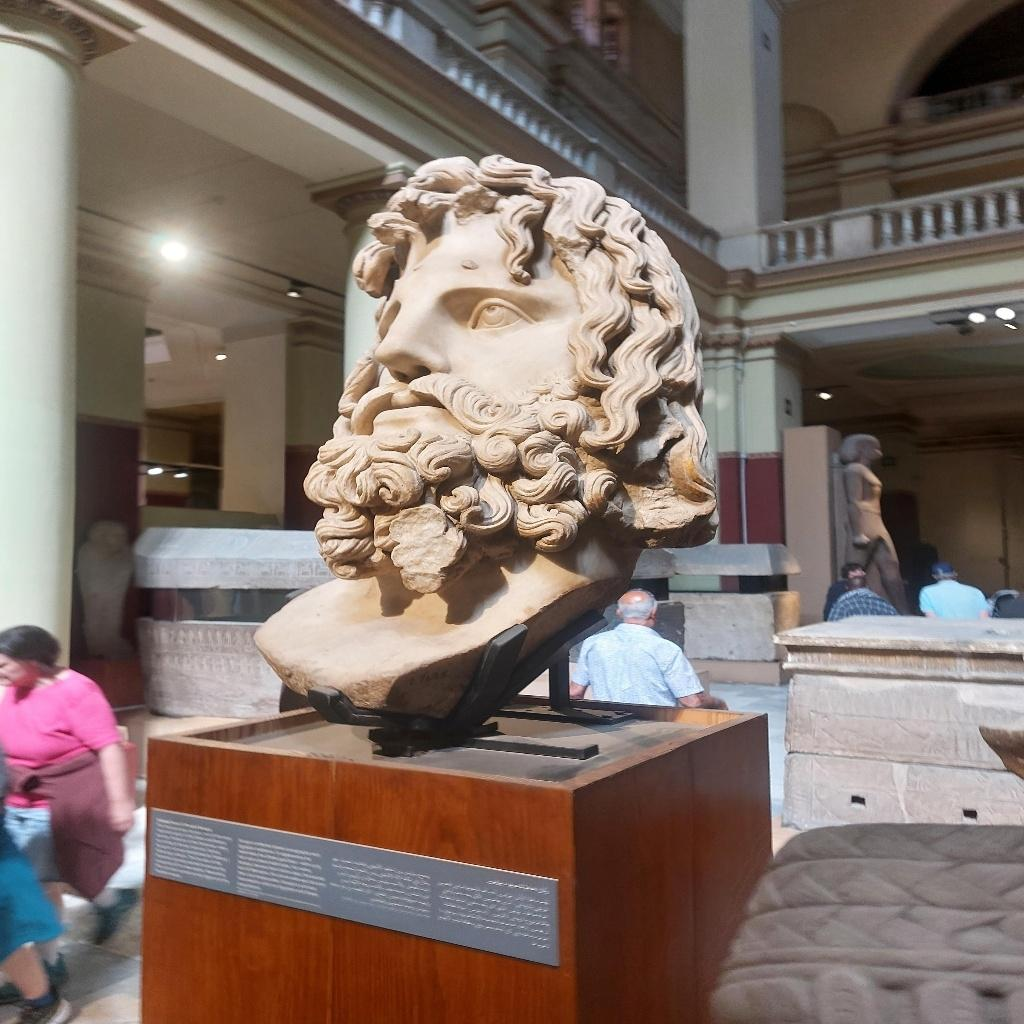Clossal Head of the god Serapis: (252, 151, 724, 722)
